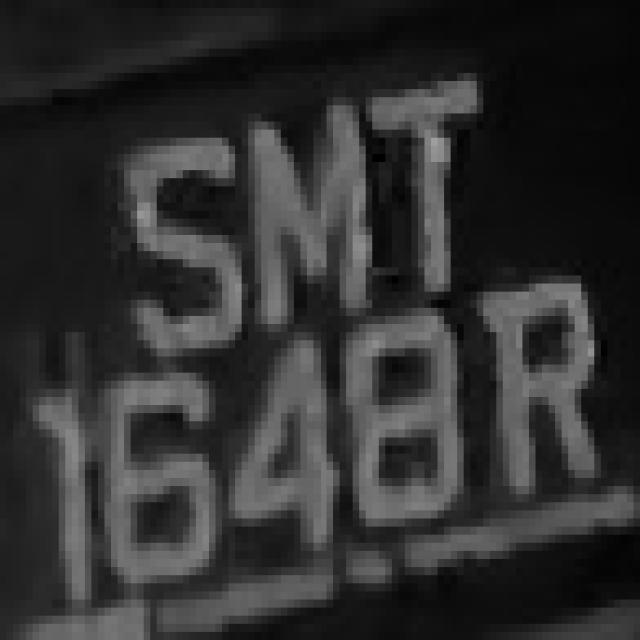1: (13, 348, 105, 624)
4: (215, 300, 352, 575)
6: (111, 341, 209, 584)
8: (346, 292, 477, 534)
M: (228, 105, 392, 324)
R: (477, 243, 601, 519)
S: (111, 98, 235, 356)
T: (359, 57, 490, 316)
